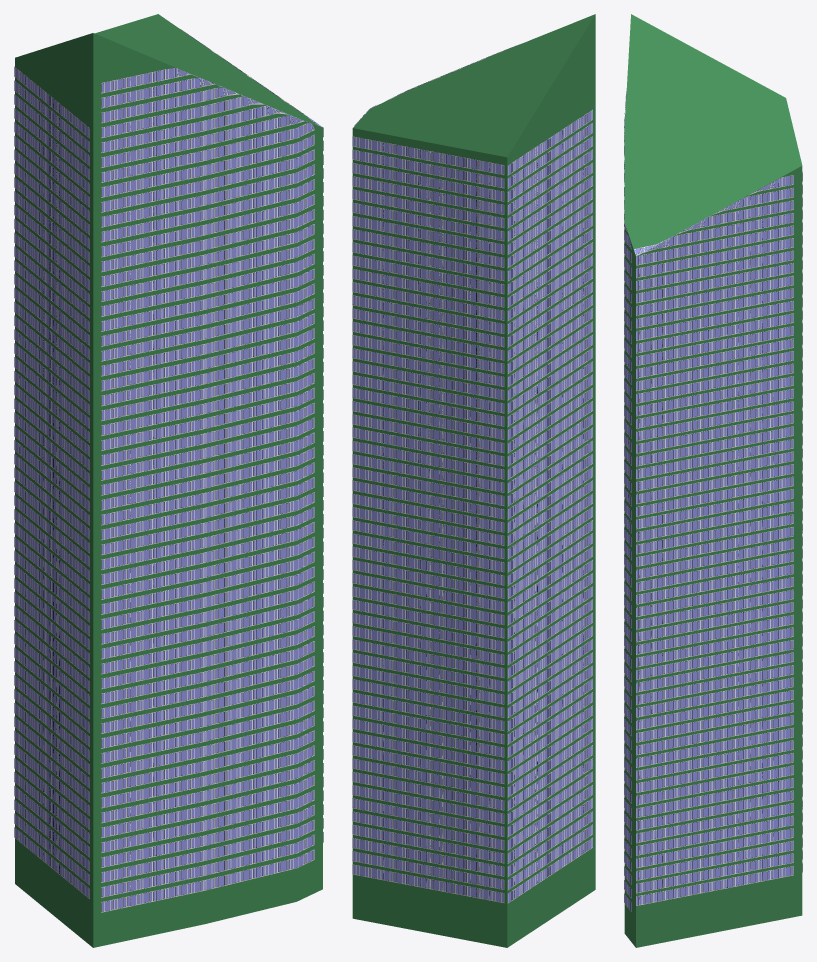
The model's file is ThePointer.fbx.
3 views of the same model, side by side, from view 1: azimuth 30°, elevation 25°; view 2: azimuth 150°, elevation 25°; view 3: azimuth 270°, elevation 25° (orthographic). The views are drawn at different scales.
Visible parts, largest first — view 1: Window, ThePointer, Window.003, Window.001; view 2: Window.002, ThePointer, Window.003; view 3: Window.001, ThePointer, Window, Window.002.
Part boxes in pixels (box(x1,y1,x2,y2)): Window: box(101, 67, 314, 912); ThePointer: box(15, 14, 322, 947); Window.003: box(14, 66, 89, 898); Window.001: box(180, 29, 323, 842); Window.002: box(352, 136, 504, 903); ThePointer: box(352, 14, 595, 947); Window.003: box(507, 109, 592, 903); Window.001: box(633, 175, 793, 905); ThePointer: box(624, 14, 802, 947); Window: box(624, 91, 631, 911); Window.002: box(802, 171, 802, 872).
Size of the model in its own units: 4684 by 17549 by 3424.
